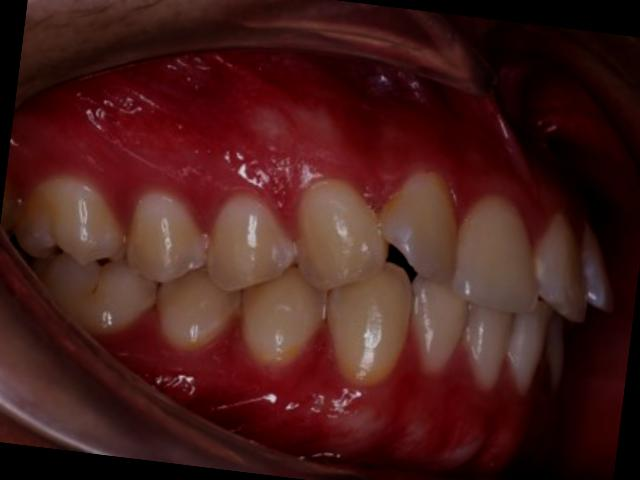canine class II 1/4: (228, 161, 437, 402)
molar class III 1/4: (0, 147, 172, 356)
